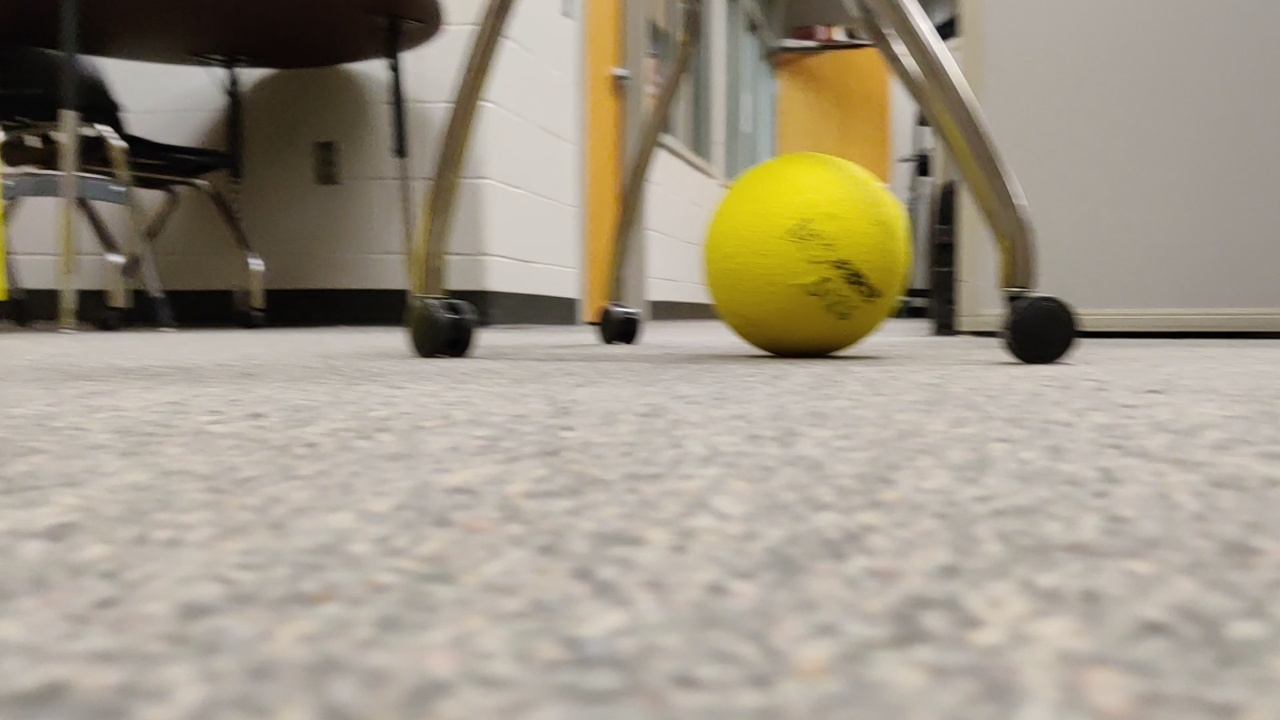Ball: (692, 144, 924, 360)
